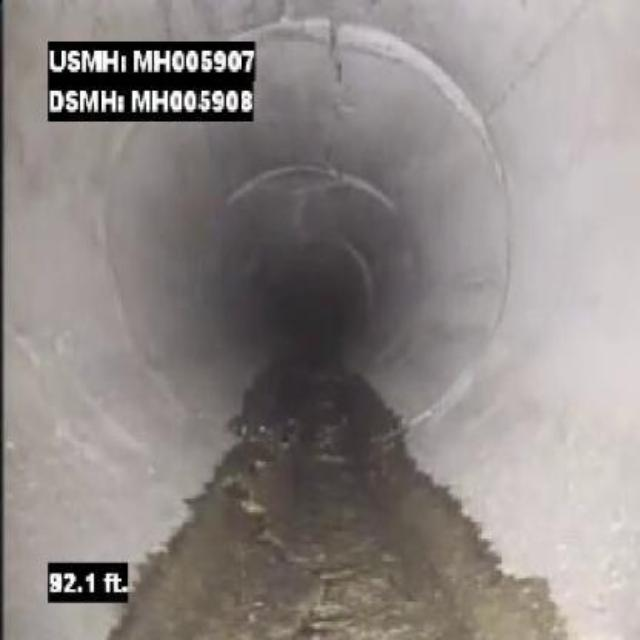Crack: (218, 446, 291, 580), (305, 542, 358, 638)
Joint offset: (282, 11, 517, 125)
